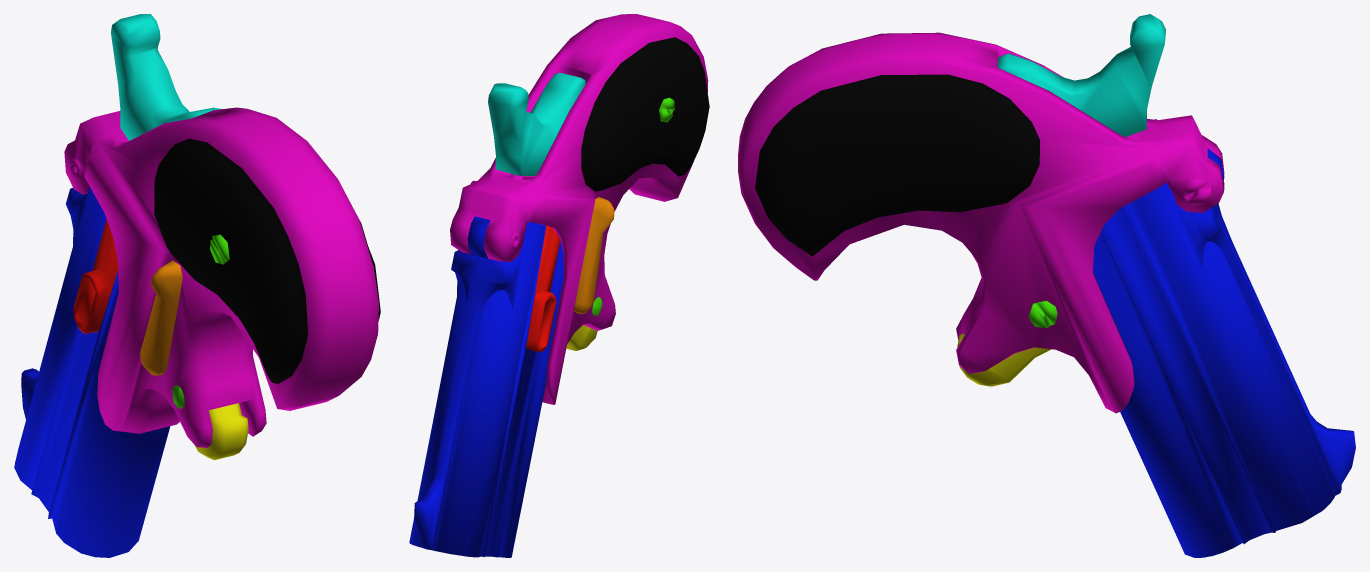
Rendered from DerringerMelee.fbx.
3 renders of one model, left to right at view 1: azimuth 30°, elevation 25°; view 2: azimuth 150°, elevation 25°; view 3: azimuth 270°, elevation 25°, orthographic. The views are drawn at different scales.
Parts seen in each view (by area): view 1: Derringer; view 2: Derringer; view 3: Derringer.
Part boxes in pixels (x1,y1,x2,y2): Derringer: (14, 14, 380, 557); Derringer: (409, 14, 709, 557); Derringer: (738, 14, 1355, 557).
Bounding box in the file's own units: 0.018 × 0.0869 × 0.0922.
